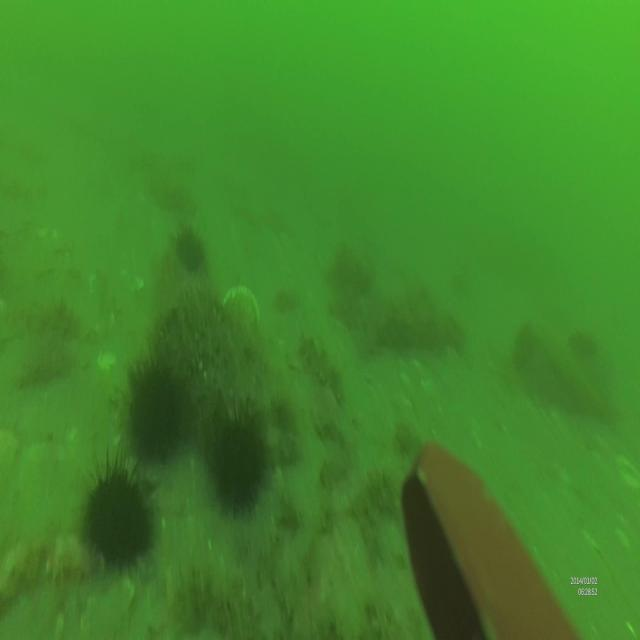echinus: (80, 448, 157, 577), (123, 348, 195, 468), (206, 393, 271, 520), (173, 220, 209, 276)
holothurian: (299, 331, 344, 404), (31, 301, 86, 349), (18, 352, 79, 394)
scallop: (221, 284, 262, 338)
